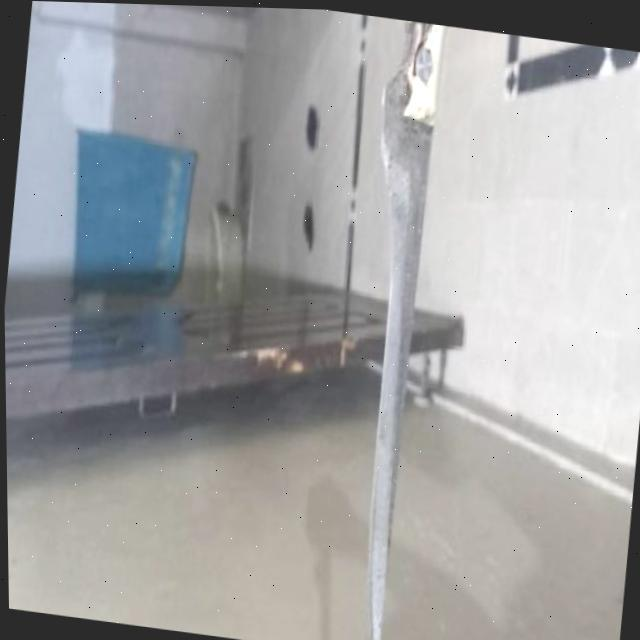knife: (324, 13, 449, 640)
